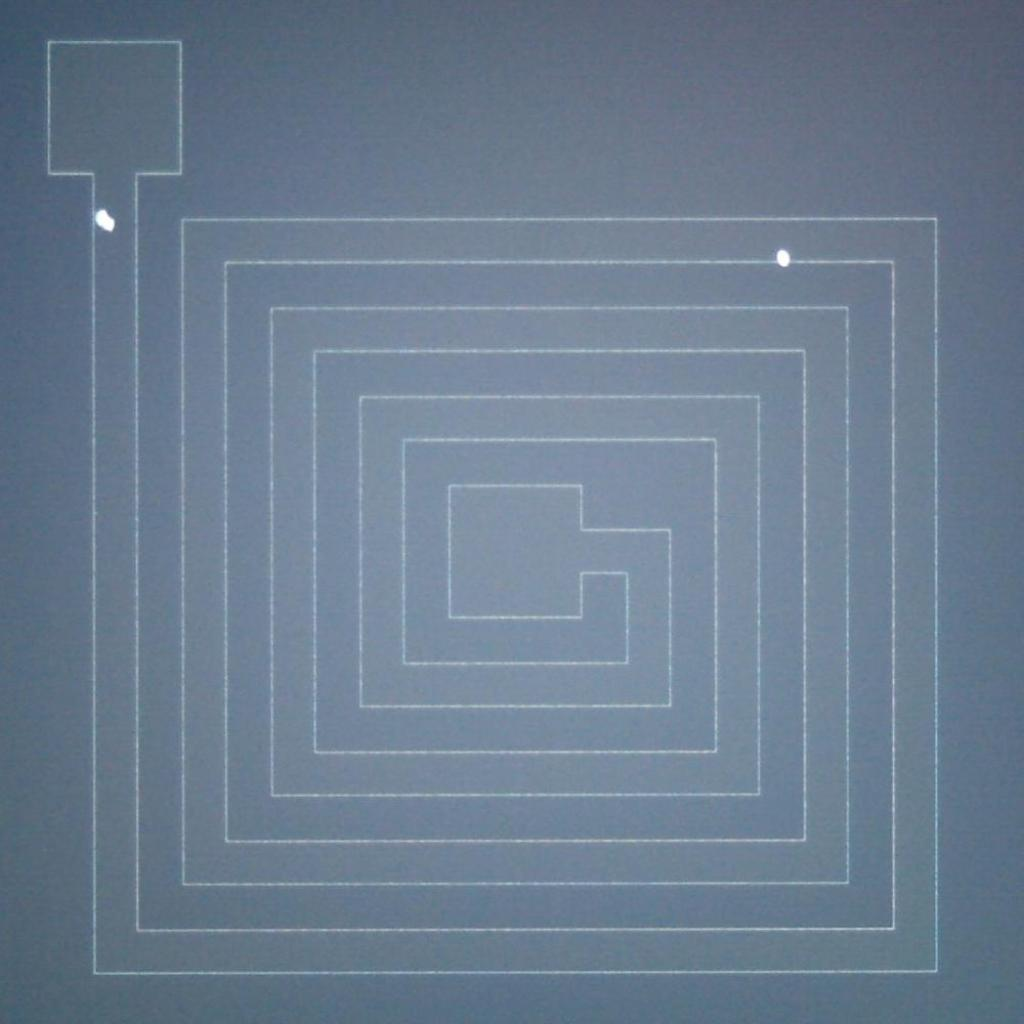Bdot: (96, 208, 118, 231)
dot: (778, 254, 789, 264)
